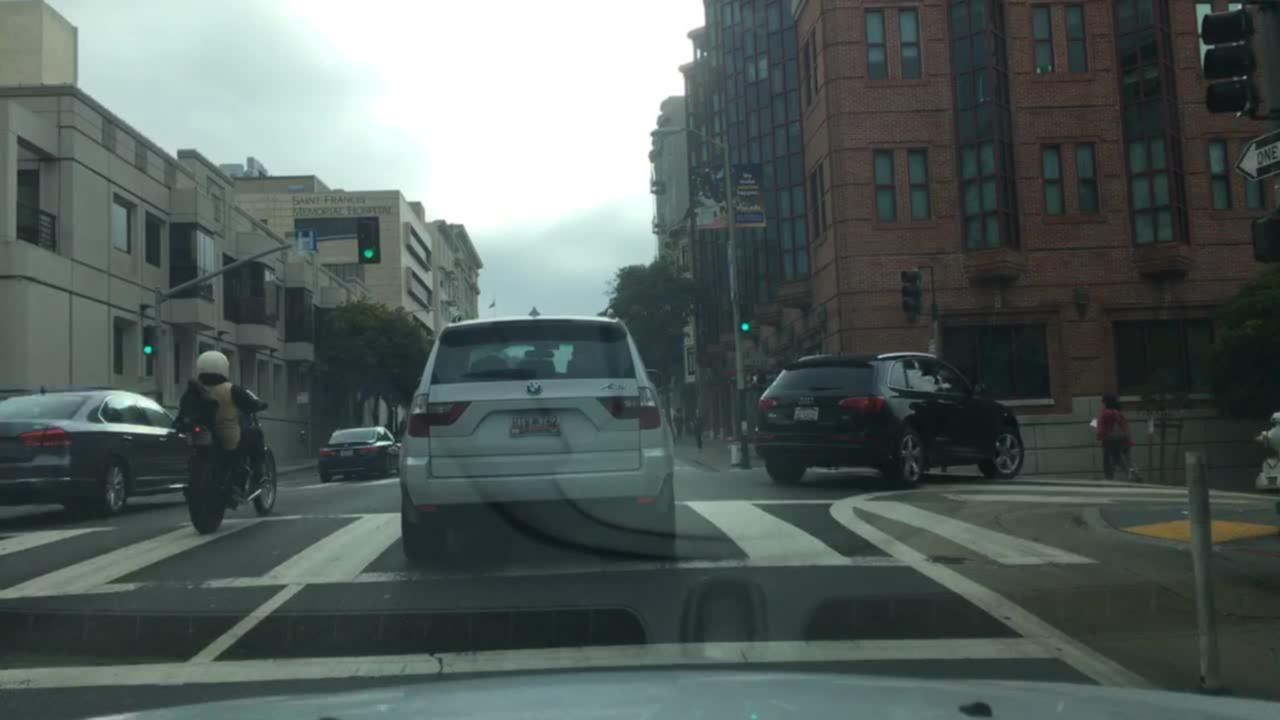Audi: (795, 394, 815, 408)
bmw: (521, 379, 550, 400)
